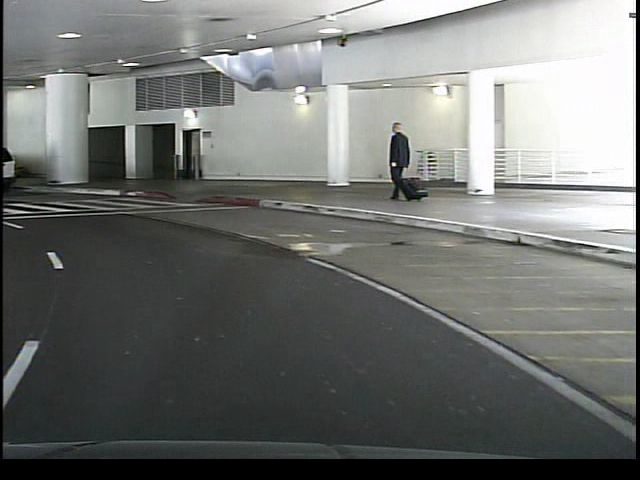person: (380, 121, 418, 200)
